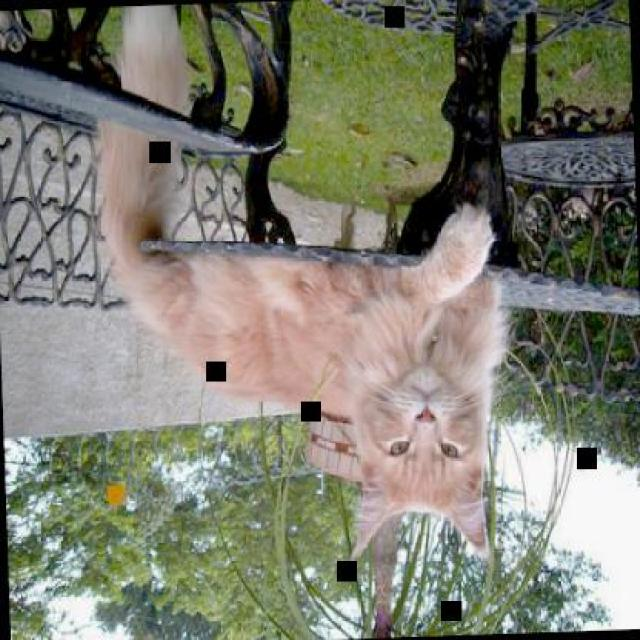cat: (98, 0, 509, 572)
